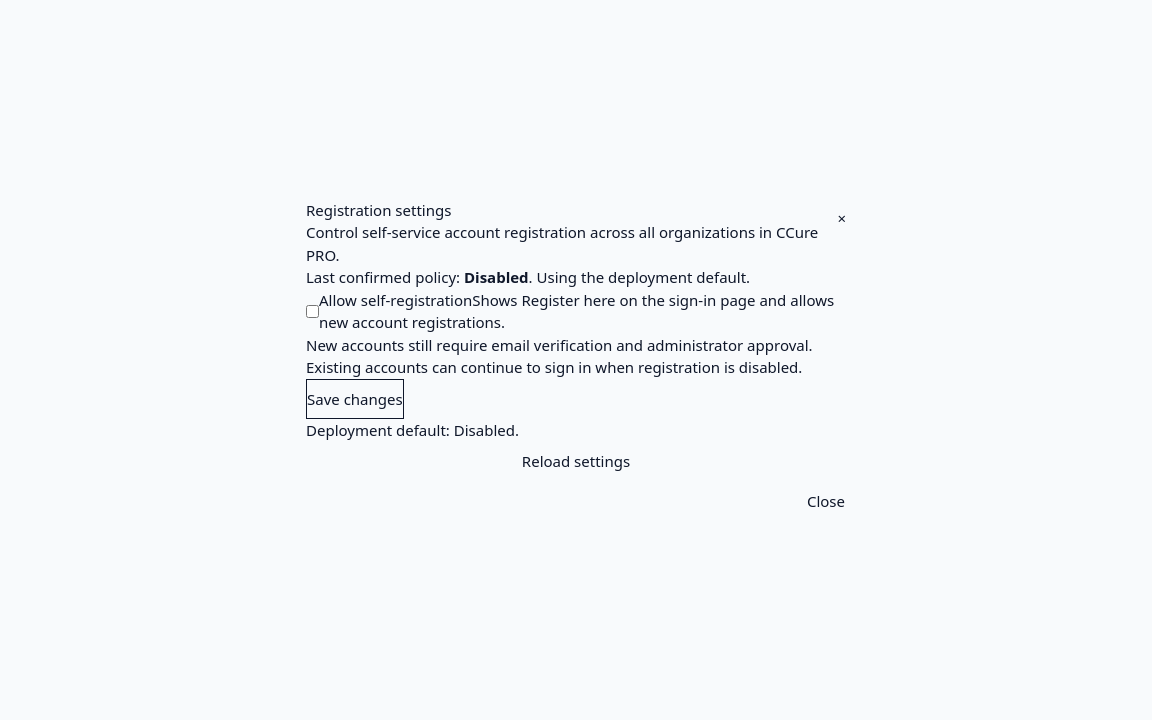
Test case: Registration Settings › keeps the confirmed policy when saving fails and reports a stale revision
This screenshot has width=1152, height=720.
Click the checkbox. click: [312, 311]
box: [306,305,319,318]
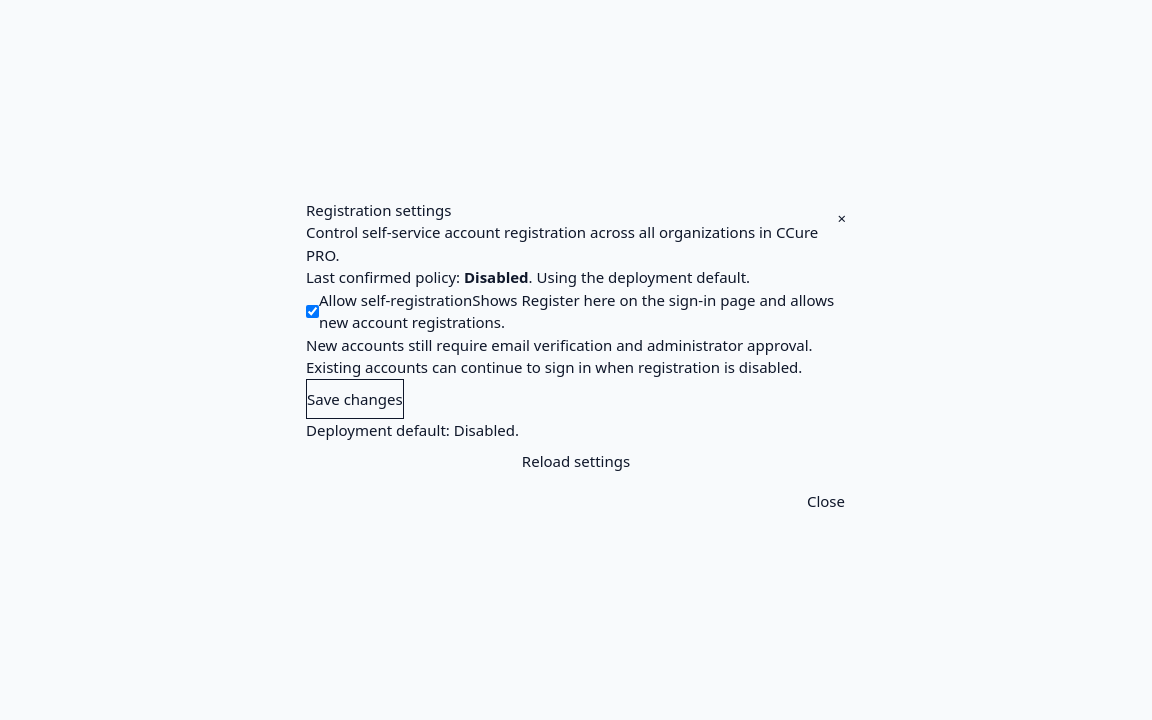
Click the button "Save changes". click: [355, 399]
box: [306,379,404,419]
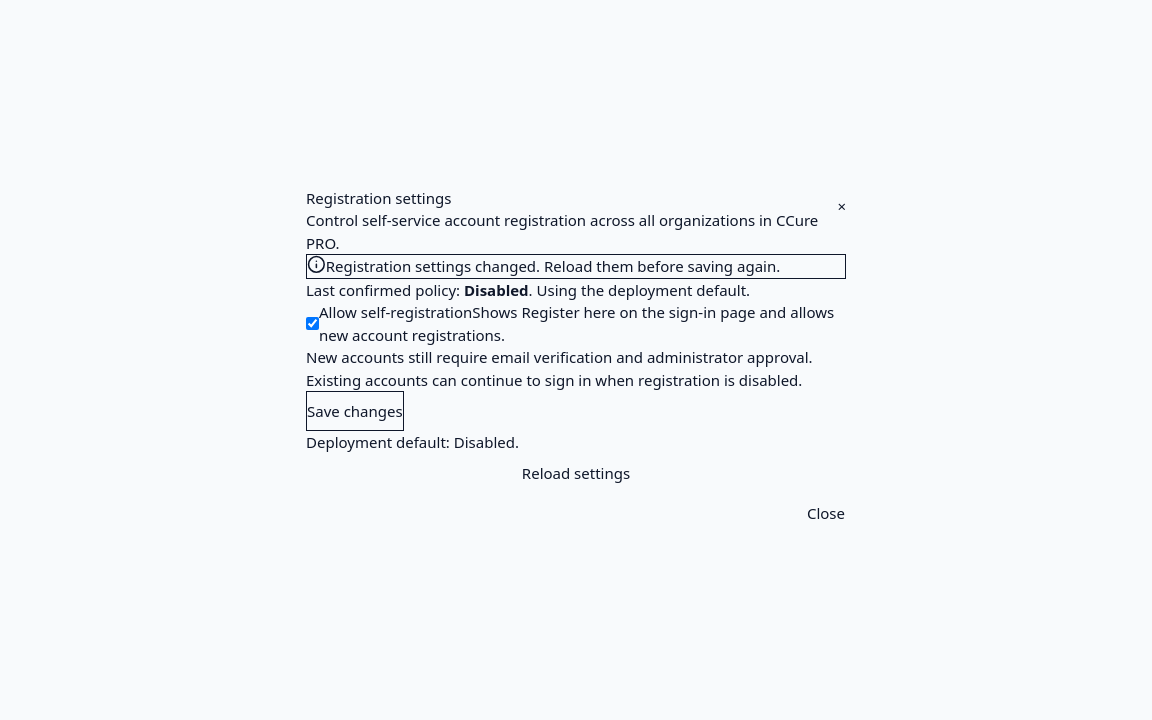
Expected: the text "Disabled" is shown, [464,280,529,300]
Expected: the text "Registration settings changed" is shown, [326,256,780,276]
